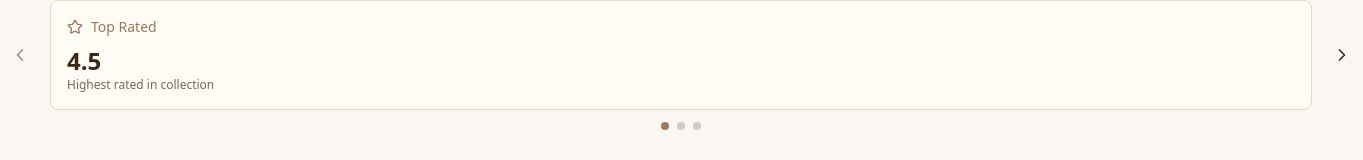
StatsCarousel › Touch/Swipe Gestures › navigates to next slide on swipe left
This screenshot has width=1363, height=160.
Check: the element showing "Top Rated 4.5 Highest rated in collection" is shown, box [67,17,214,93]
Press the mouse on the element with id "stats-carousel" at (681, 55), box [50,0,1312,110]
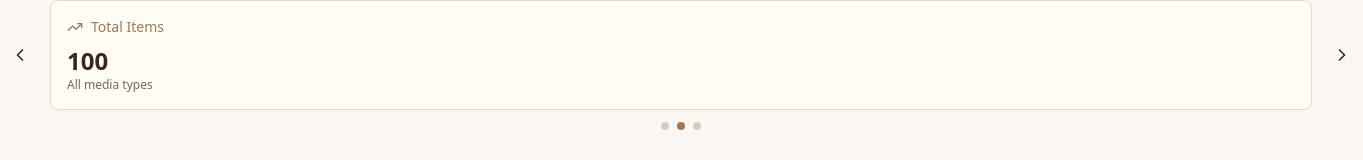
Check: the element showing "Total Items 100 All media types" is shown, box [67,17,164,93]
